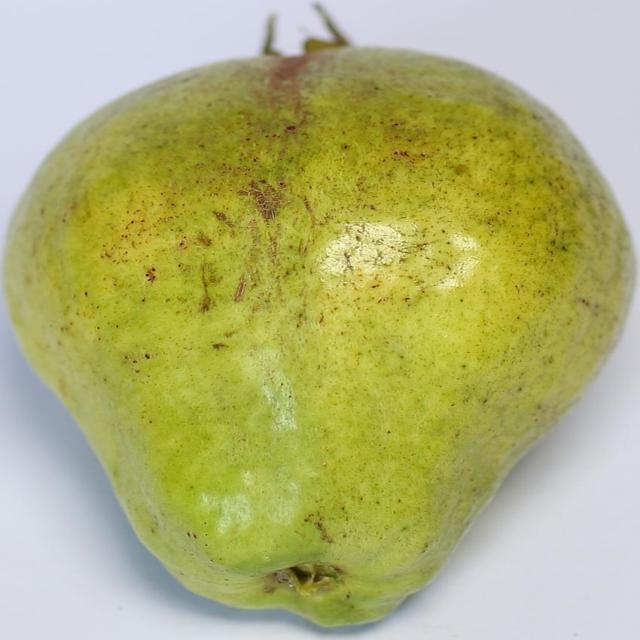Good_Guava: (0, 39, 635, 633)
